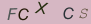C: (63, 6, 75, 20), (18, 8, 30, 21)
F: (7, 7, 18, 22)
S: (79, 7, 88, 19)
X: (34, 1, 48, 15)
